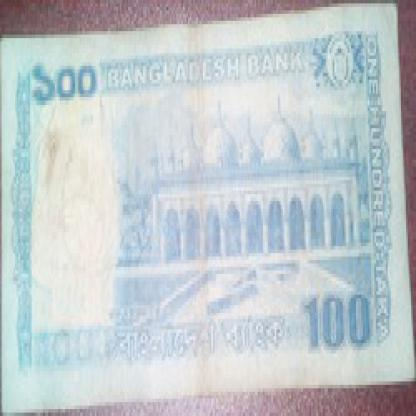one hundred taka: (306, 281, 379, 364), (32, 52, 103, 121)
